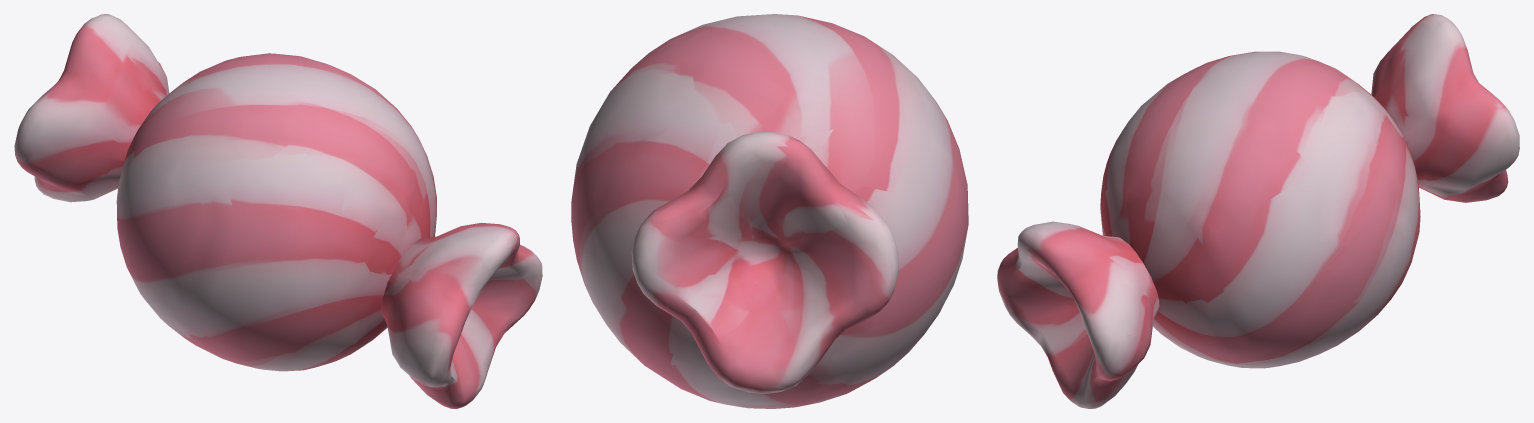
File: S10_CandyWrapped_LOD1.fbx
The picture shows the model from 3 angles, left to right: view 1: azimuth 30°, elevation 25°; view 2: azimuth 150°, elevation 25°; view 3: azimuth 270°, elevation 25°; orthographic projection. The views are drawn at different scales.
Visible parts, largest first — view 1: S10_CandyWrapped_LOD1; view 2: S10_CandyWrapped_LOD1; view 3: S10_CandyWrapped_LOD1.
Part boxes in pixels (left/top/right/bottom): S10_CandyWrapped_LOD1: left=14, top=14, right=542, bottom=408; S10_CandyWrapped_LOD1: left=571, top=14, right=968, bottom=408; S10_CandyWrapped_LOD1: left=997, top=14, right=1519, bottom=408.
Size of the model in its own units: 0.0384 by 0.03 by 0.0477.
1 material, 1 textured.
